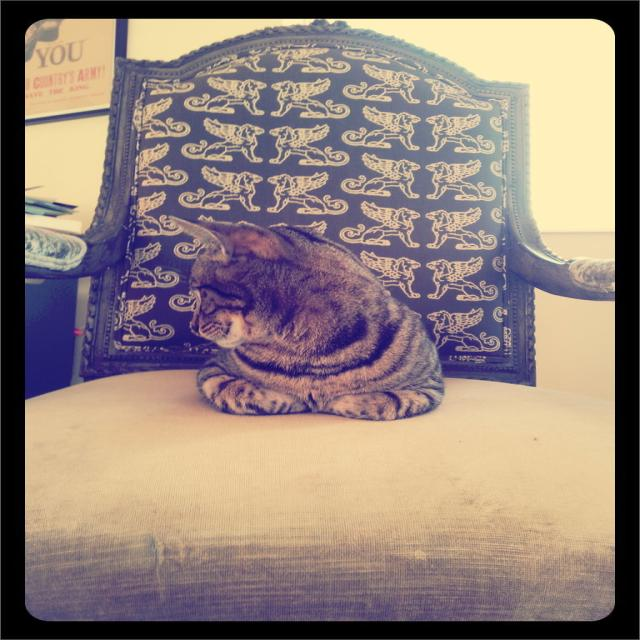Cat: (164, 215, 442, 419)
